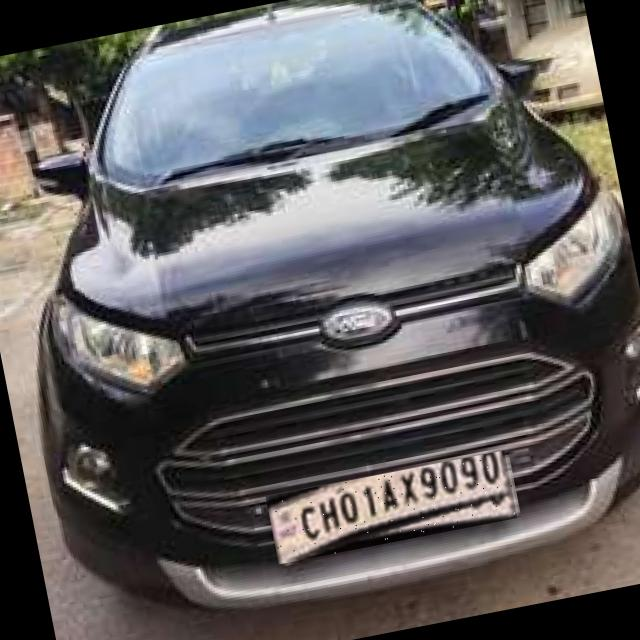Plate: (267, 451, 520, 565)
